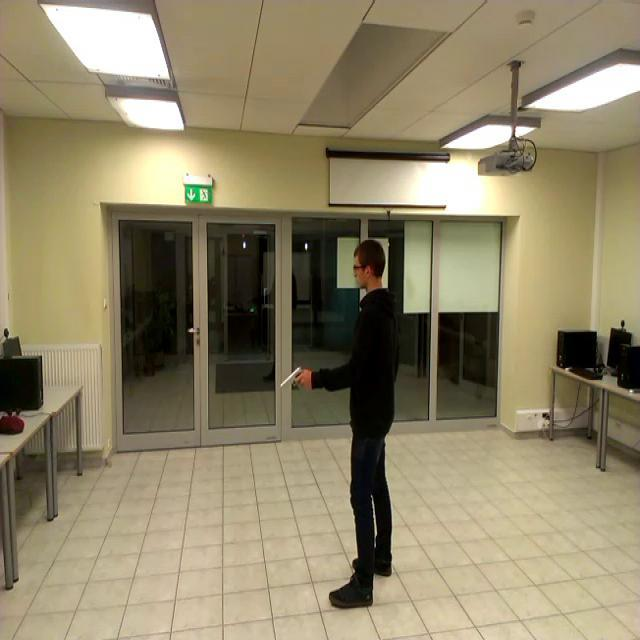Gun: (281, 365, 307, 388)
